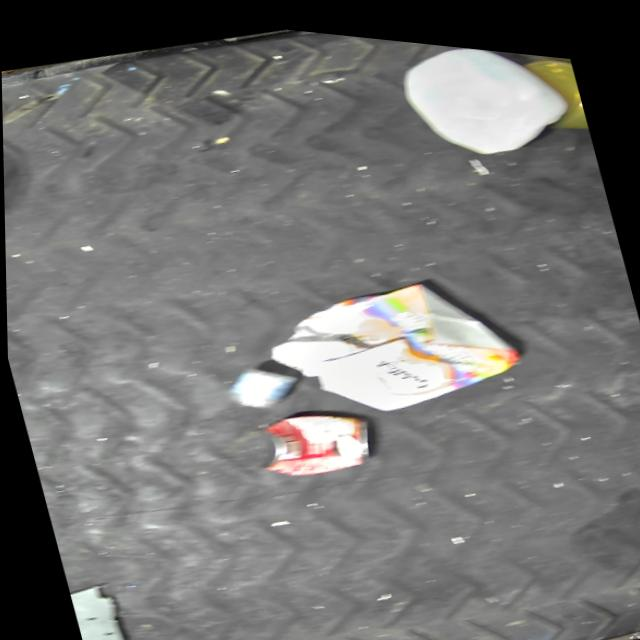can: (242, 387, 378, 486)
milk_jug: (390, 32, 576, 168)
